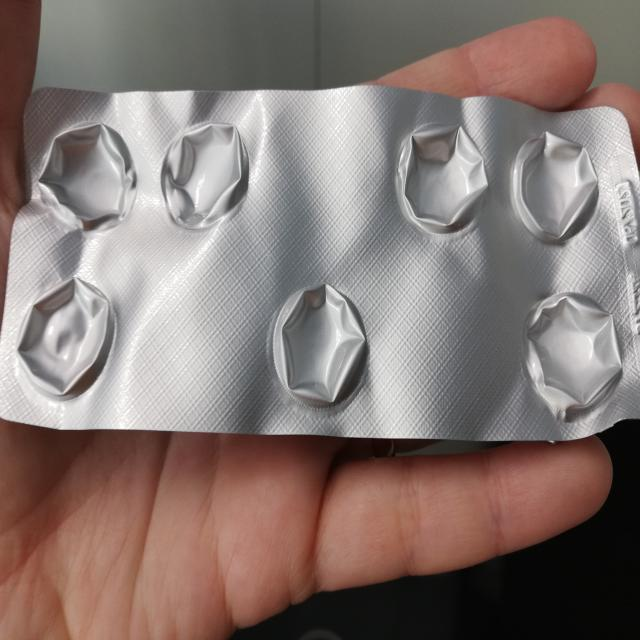Empty: (11, 272, 122, 408), (268, 280, 372, 416), (522, 288, 626, 421), (34, 121, 141, 237), (394, 118, 492, 239), (507, 127, 602, 248), (158, 119, 254, 234)
